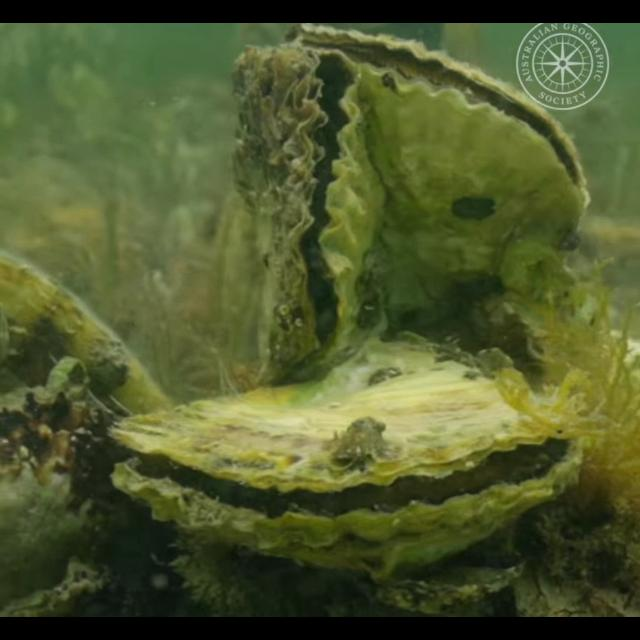Oyster-Closed: (0, 251, 176, 433)
Oyster-Open: (108, 333, 582, 583), (284, 24, 588, 352), (230, 41, 384, 387)
